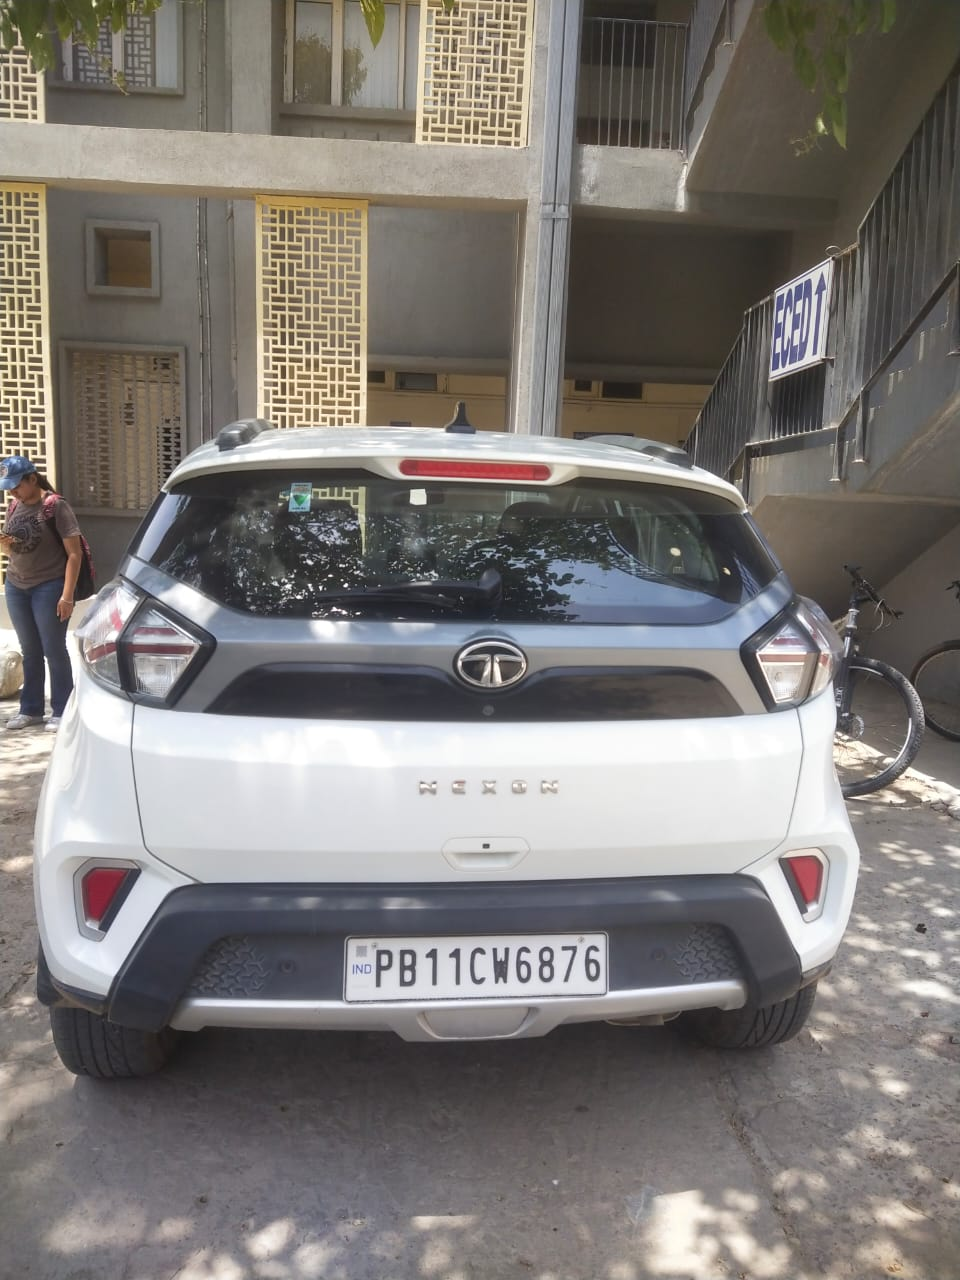license plate: (344, 933, 607, 1001)
